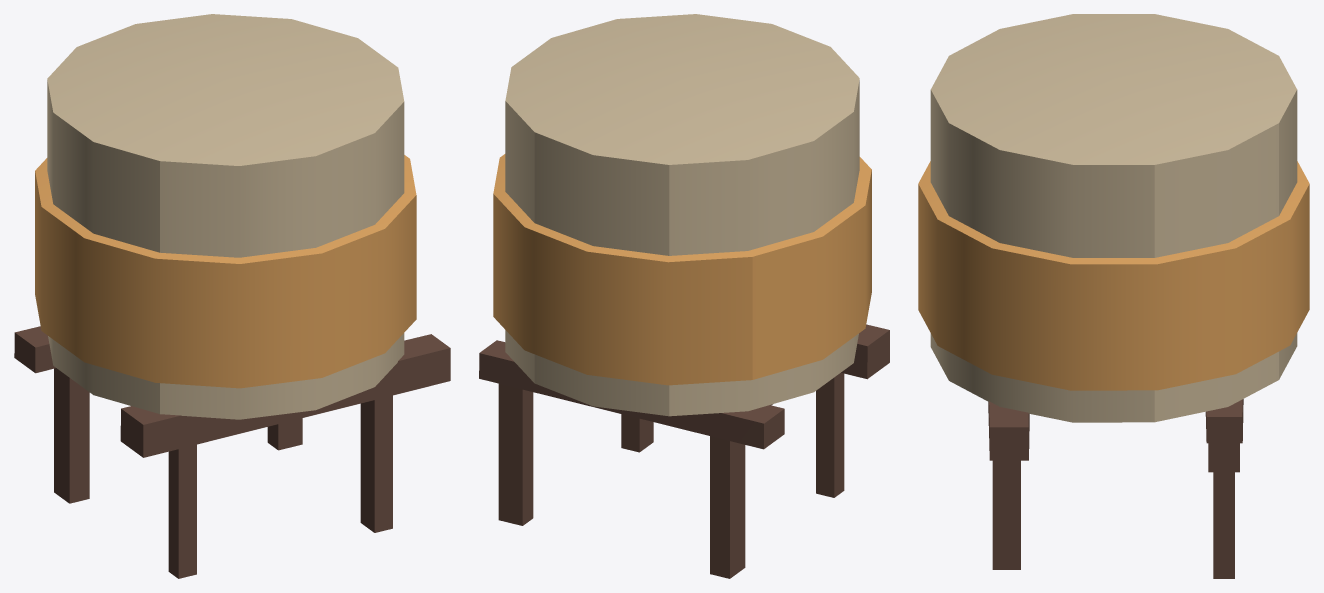
File: desert_watertank1.fbx
The picture shows the model from 3 angles, left to right: view 1: azimuth 30°, elevation 25°; view 2: azimuth 150°, elevation 25°; view 3: azimuth 270°, elevation 25°; orthographic projection. The views are drawn at different scales.
Visible parts, largest first — view 1: desert_watertank1; view 2: desert_watertank1; view 3: desert_watertank1.
Boxes of the visible parts, box(x1,y1,x2,y2) form: desert_watertank1: box(14, 14, 450, 578); desert_watertank1: box(479, 14, 889, 578); desert_watertank1: box(918, 14, 1309, 578).
Bounding box in the file's own units: 283 × 359 × 290.
